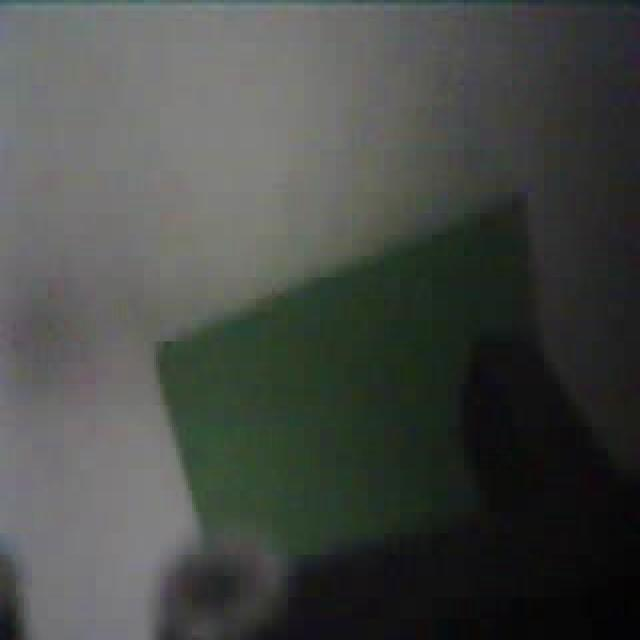green_box: (152, 197, 544, 568)
